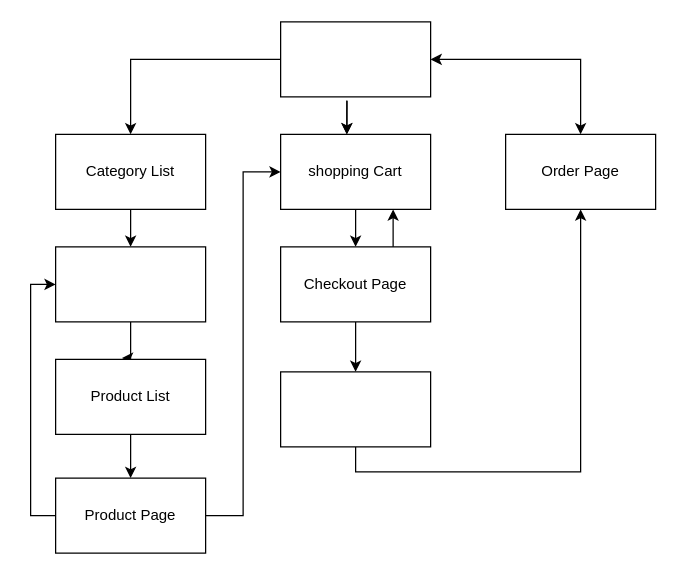
The diagram is 678 pixels wide and 575 high, and some of its shapes have lost their labels. Each missing label, with the centre of its shape:
"Category" goes at (130,284).
"Home Page" goes at (355,59).
"Payment Page" goes at (355,409).
